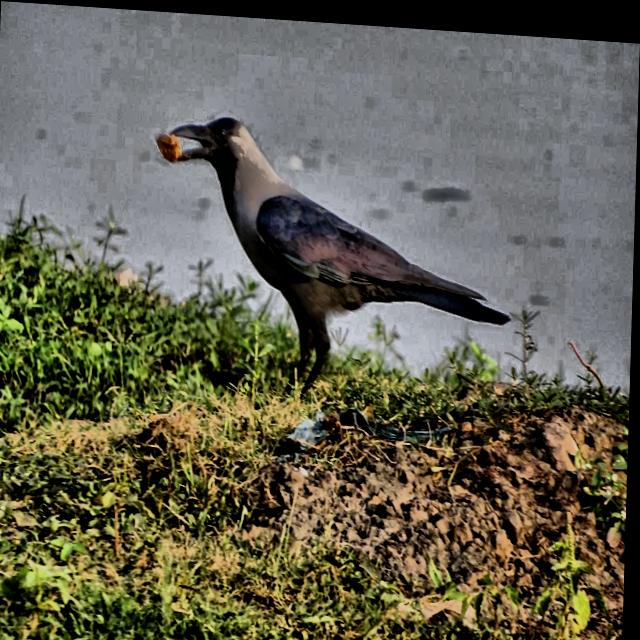crow: (72, 47, 535, 419)
